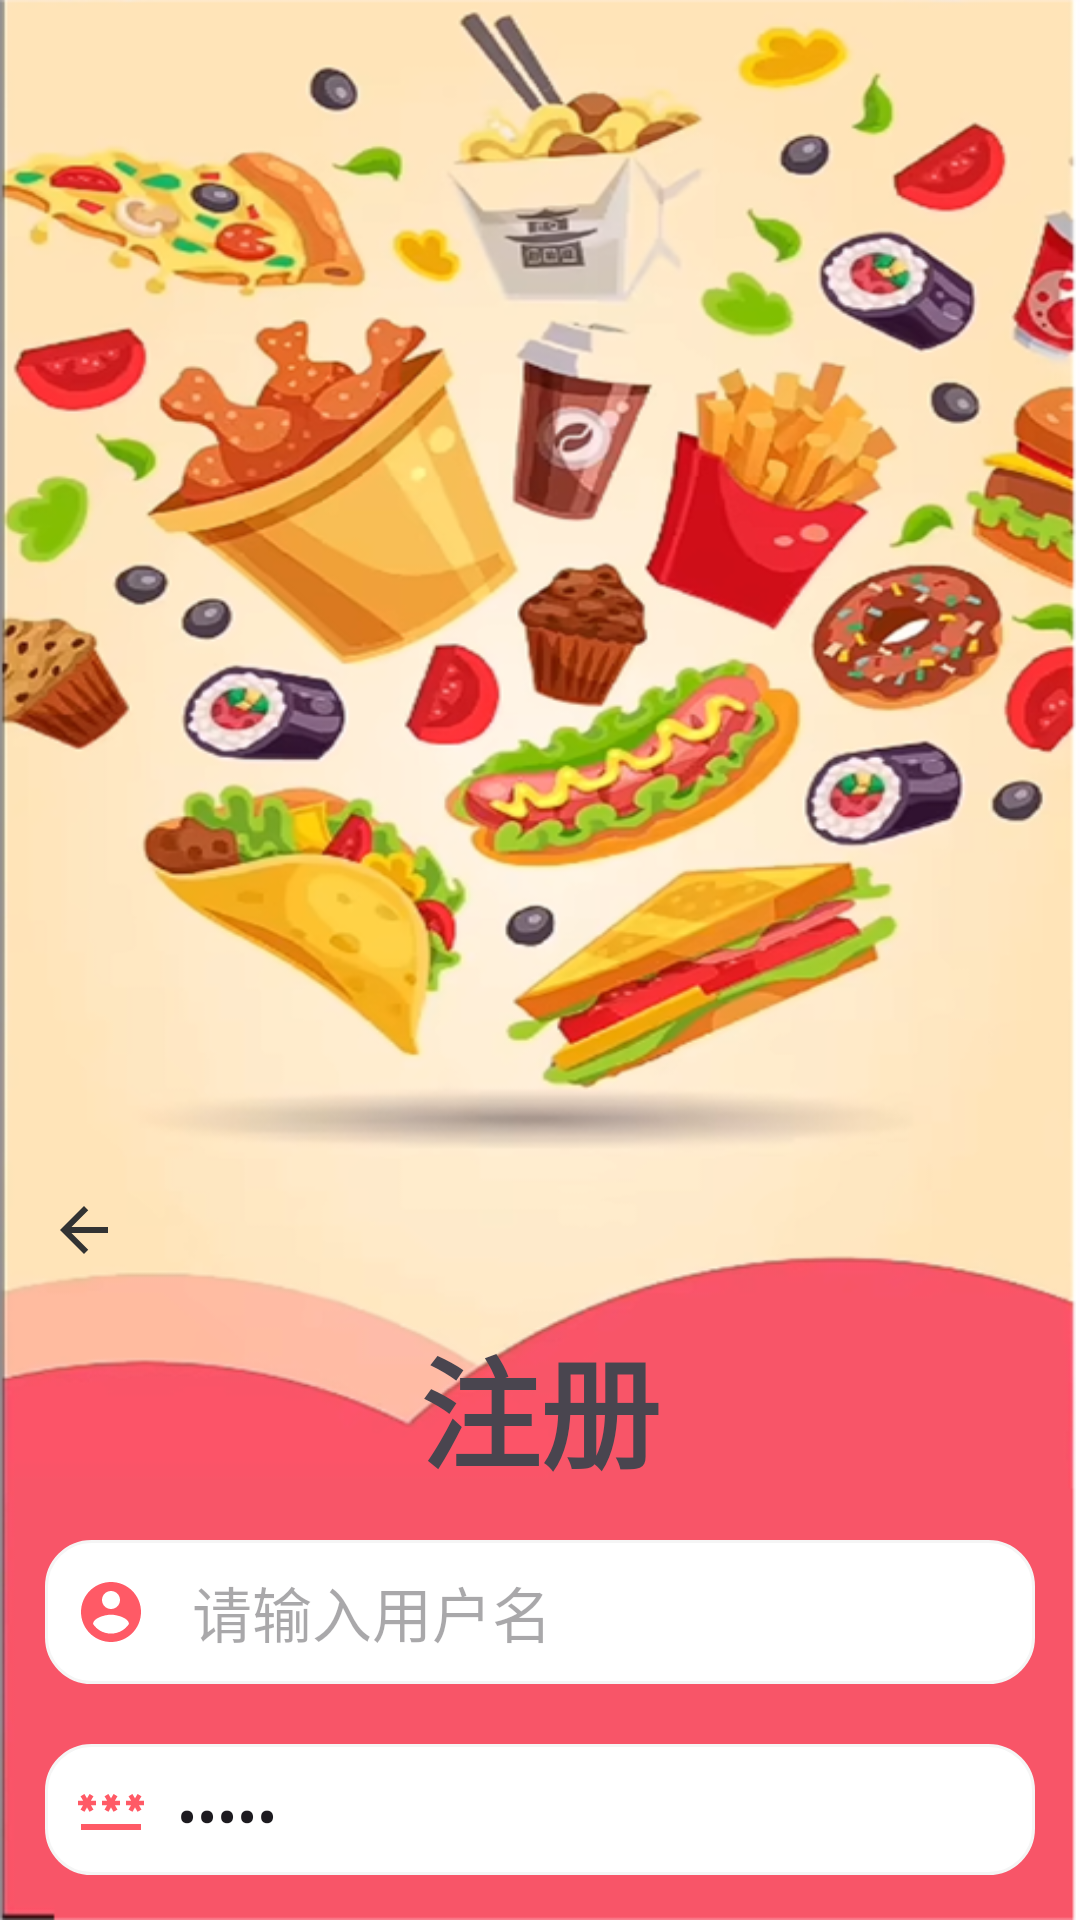

Named icons in this screenshot (1080*1920) and their bounding boxes, (x1, y1, x2, y2):
account circle: (81, 1582, 141, 1642)
password: (78, 1794, 144, 1830)
